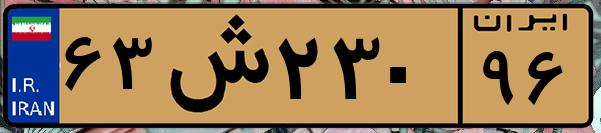0: (385, 28, 445, 110)
2: (270, 28, 330, 110)
3: (330, 28, 385, 110), (110, 28, 158, 98)
6: (57, 26, 110, 100), (525, 38, 570, 115)
9: (475, 38, 525, 113)
ش: (158, 12, 270, 120)
